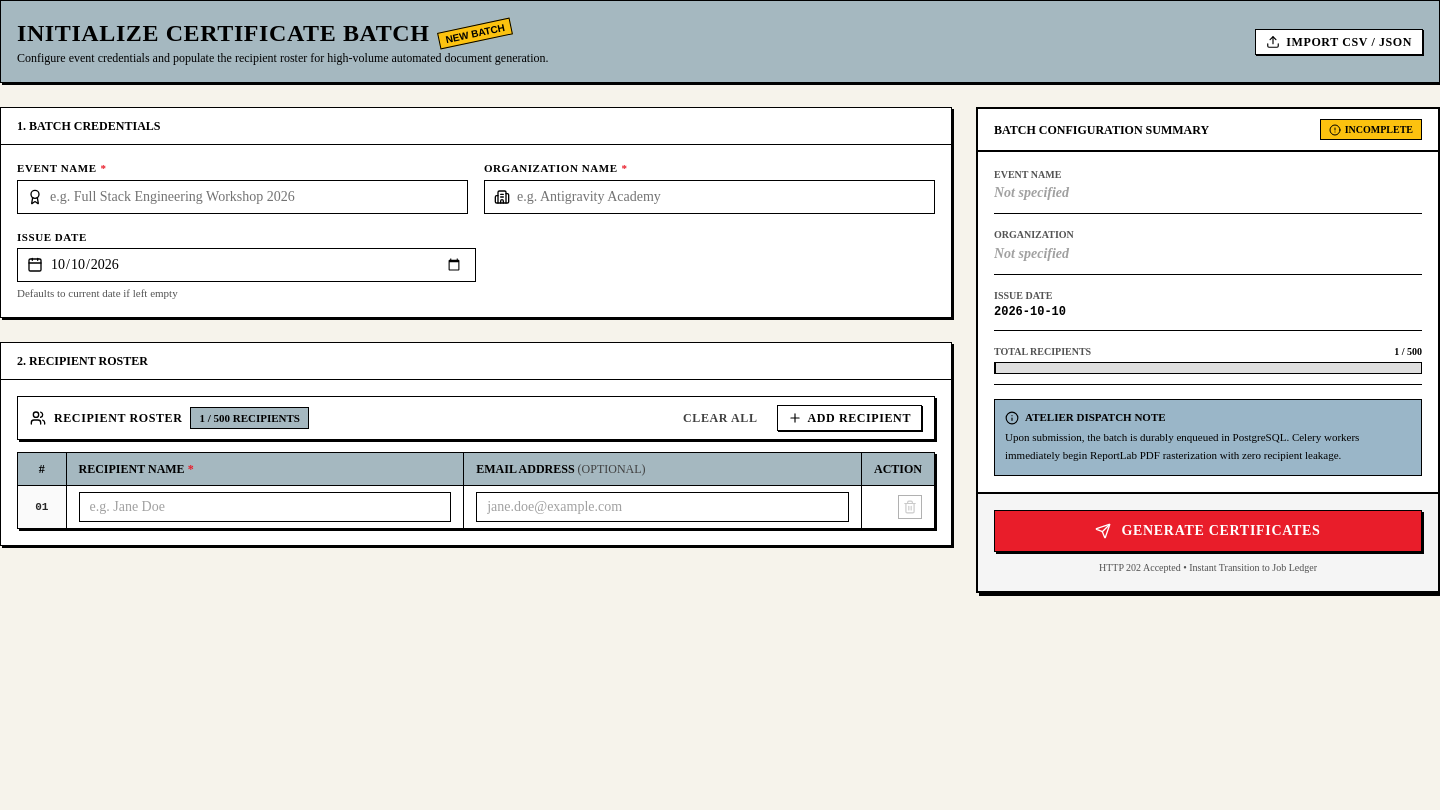
Scenario: CreateJobPage › 13. API failure displays structured error alert
The image size is (1440, 810).
Step 1. Type "Summit" into the field labelled "Event Name*" → {"x": 242, "y": 197}, box [17,180,468,214]
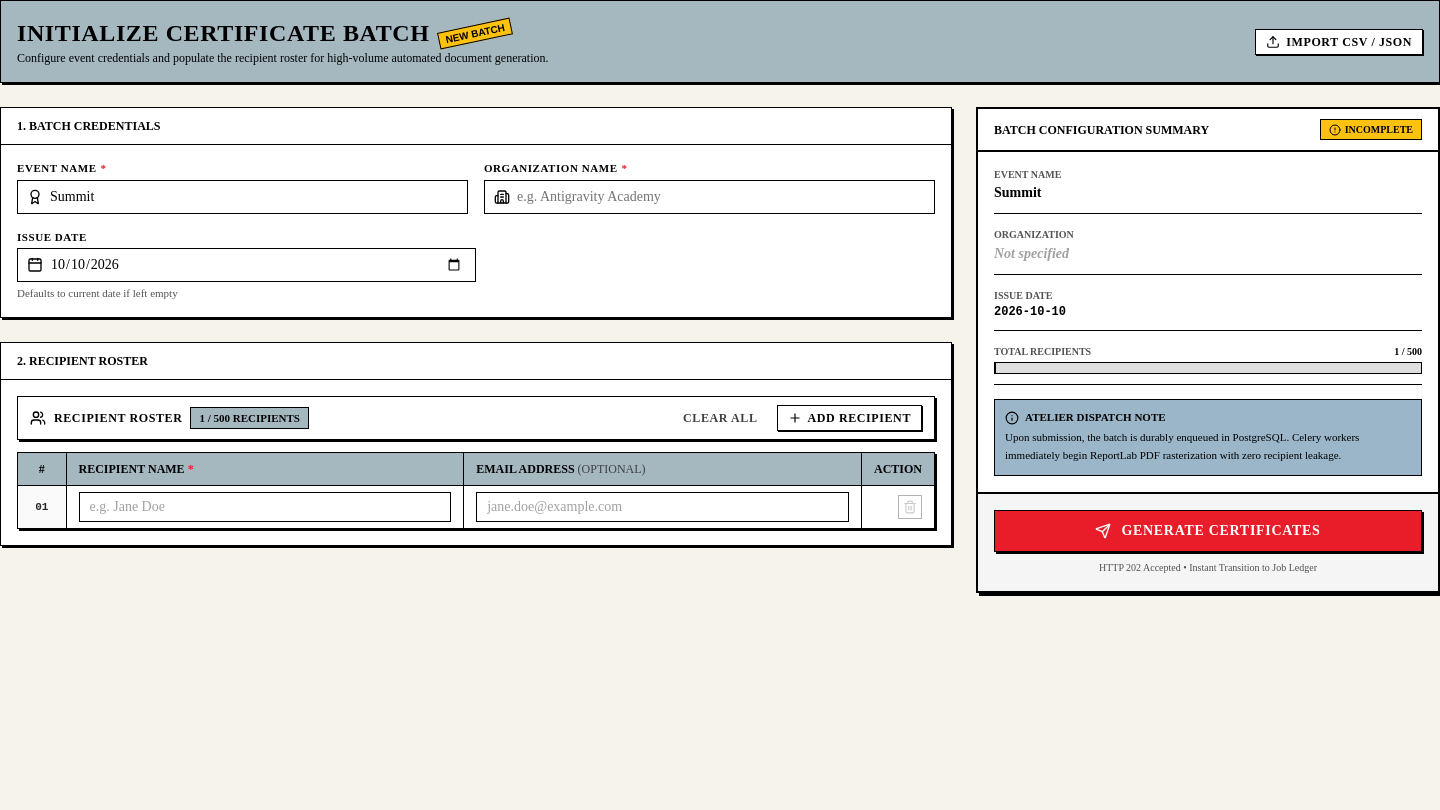
Step 2. Type "Org" into the field labelled "Organization Name*" → {"x": 710, "y": 197}, box [484,180,935,214]
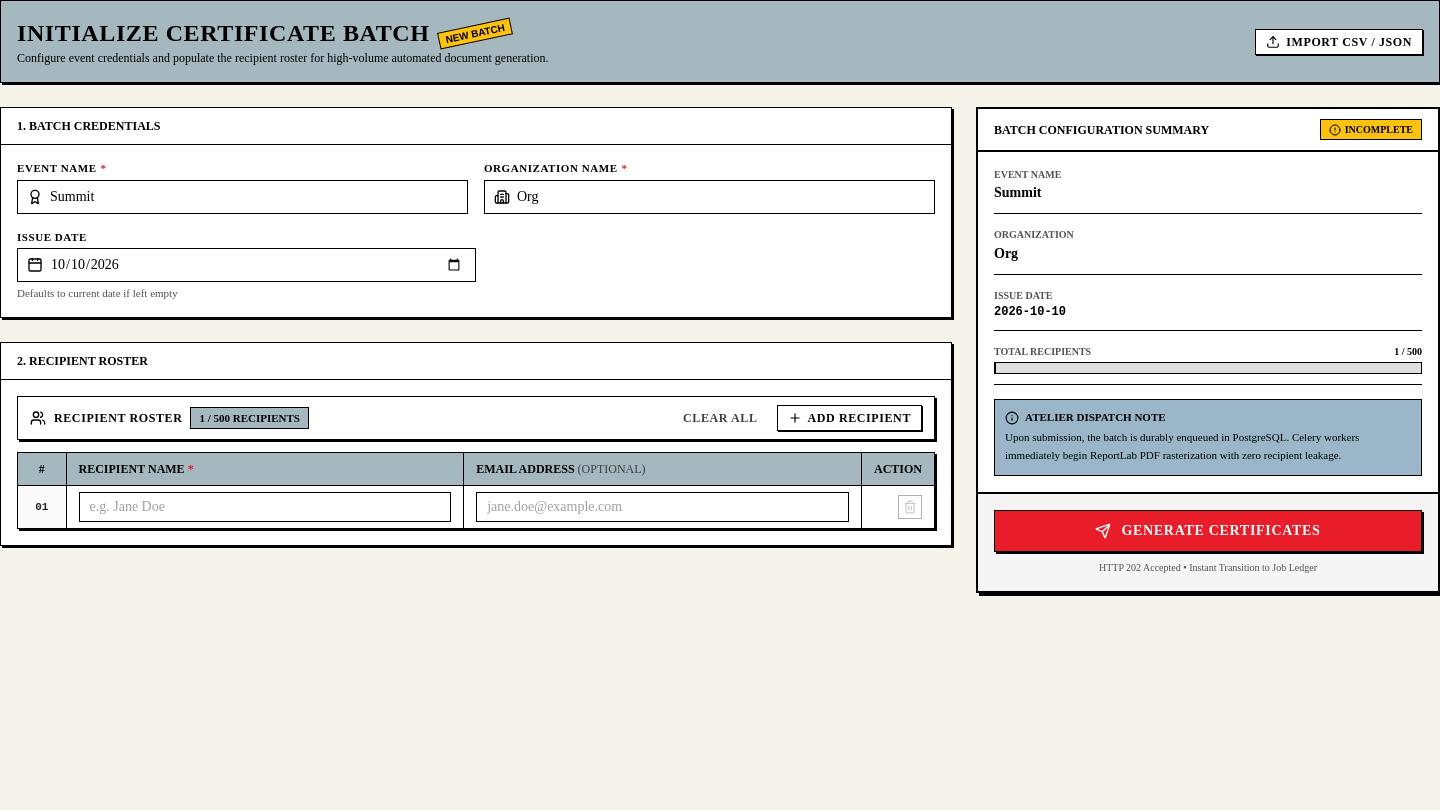
Step 3. Type "Ada Lovelace" into the field named "Recipient 01 Name" → {"x": 265, "y": 507}, box [78,492,451,522]
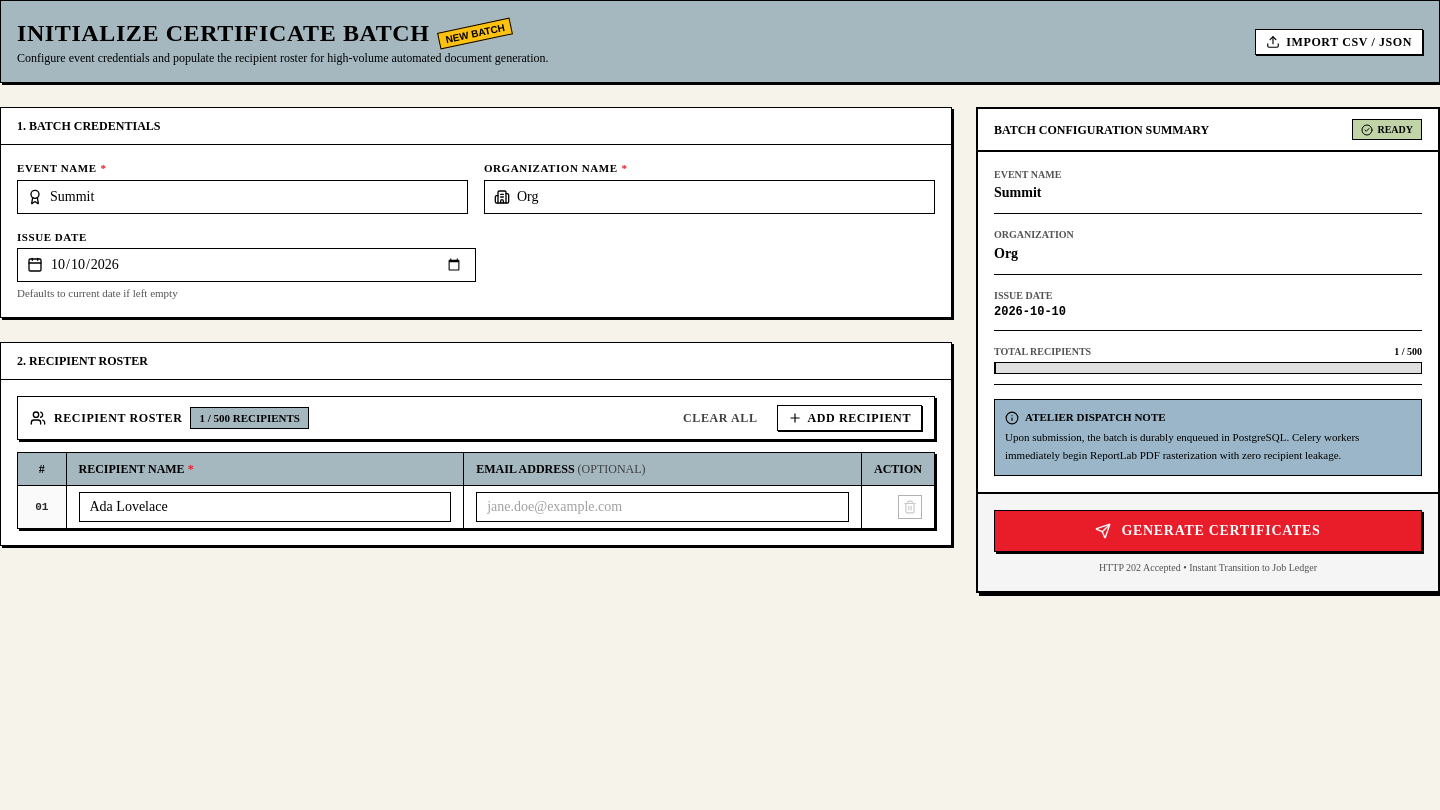
Step 4. Click the button "Generate Certificates" → {"x": 1208, "y": 531}, box [994,510,1422,552]
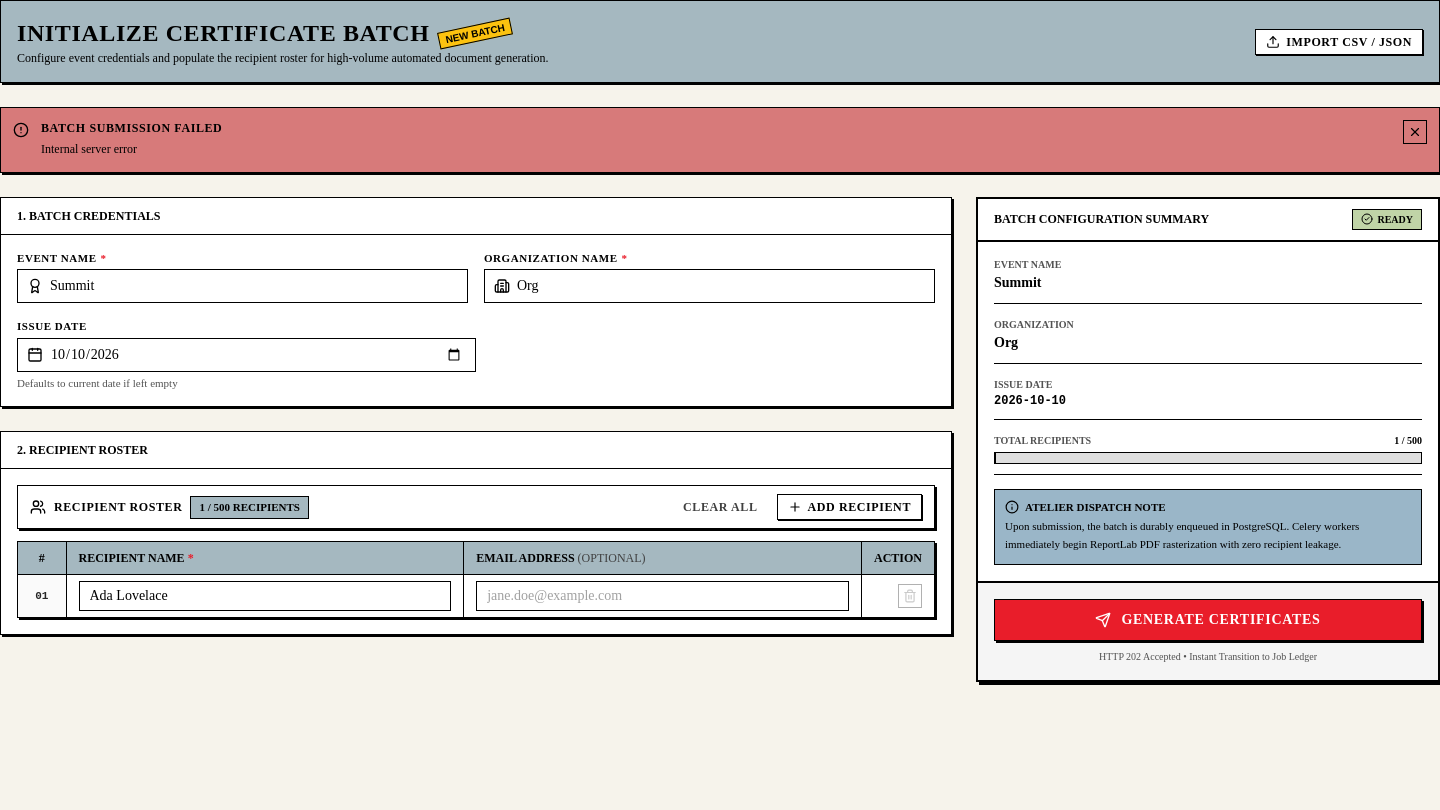
Now the message "Batch Submission Failed Internal server error" is shown, box [0,107,1439,172]
Now the heading "Batch Submission Failed" is shown, box [41,121,222,135]
Now the text "Internal server error" is shown, box [41,142,137,156]
